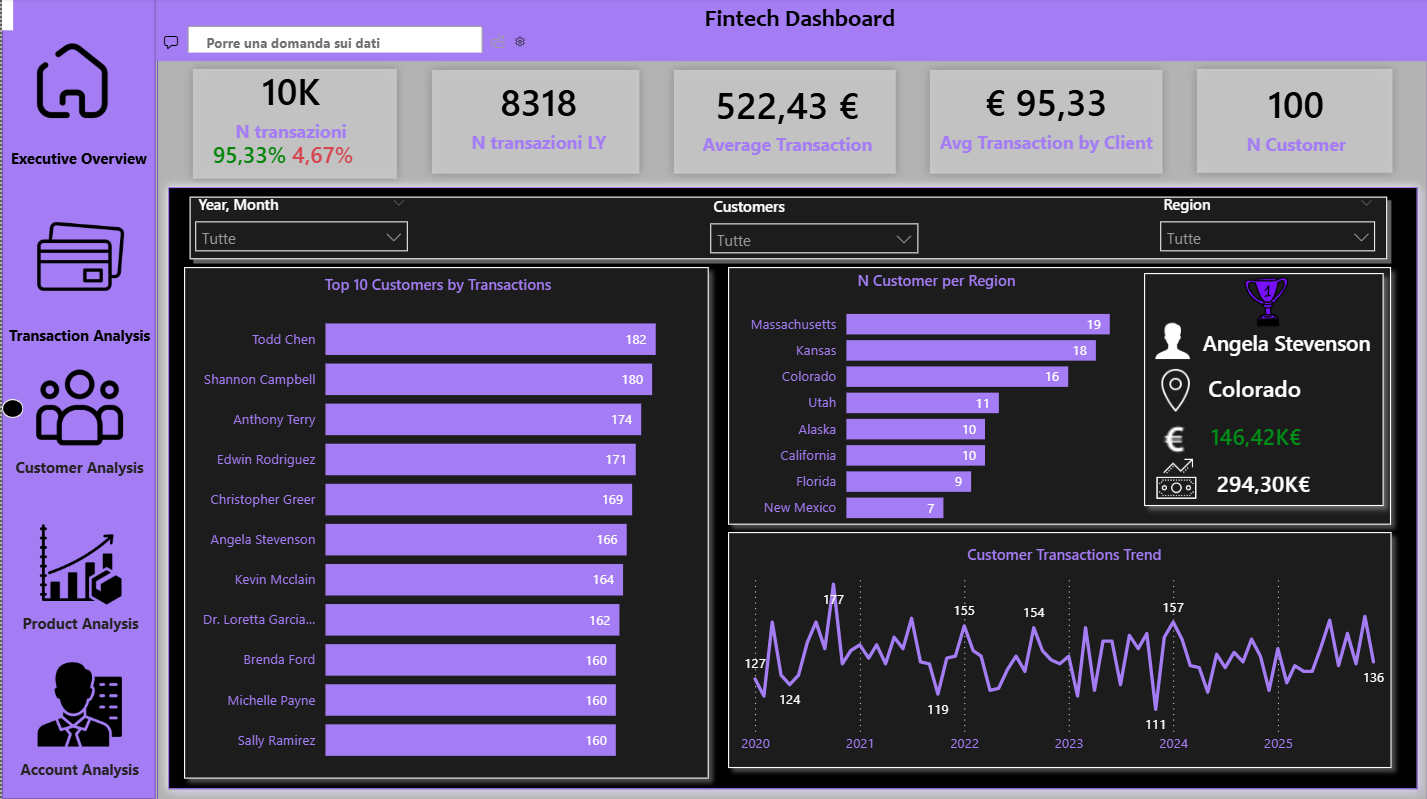

Layout of this report page (visuals, bound fields, positions):
{"tool":"powerbi","page":{"name":"Customer Analysis","canvas":[1280,720],"ordinal":2},"visuals":[{"type":"shape","box":[139.1,1.1,1140.9,719.2],"z":0},{"type":"shape","box":[0,0,138.1,719.2],"z":1000},{"type":"shape","box":[1064.9,55.7,191.6,109.2],"z":2000},{"type":"shape","box":[138.1,0,1141.9,56.7],"z":3000},{"type":"shape","box":[825.2,56.7,224.7,109.2],"z":4000},{"type":"card","fields":{"Values":["Misure.N Customer"]},"box":[1074.5,51.4,174.4,109.2],"z":5000},{"type":"shape","box":[163.7,55.7,199.1,114.5],"z":6000},{"type":"card","fields":{"Values":["Misure.avg transazine x cliente"]},"box":[825.2,49.2,224.7,109.2],"z":7000},{"type":"shape","box":[595.1,56.7,215.1,109.2],"z":8000},{"type":"card","fields":{"Values":["Misure.N transazioni"]},"box":[164.8,39.6,188.4,109.2],"z":9000},{"type":"card","fields":{"Values":["Misure.valore medio transazione"]},"box":[596.8,51.7,216.2,109],"z":10000},{"type":"shape","box":[140.2,160.5,1139.8,558.7],"z":11000},{"type":"textbox","box":[619.7,0,193.7,49.2],"z":12000},{"type":"qnaVisual","box":[135.9,0,344.6,49.2],"z":13000},{"type":"shape","box":[0,359.6,19.3,17.1],"z":14000},{"type":"textbox","box":[0,130.6,138.1,35.3],"z":15000},{"type":"textbox","box":[0,289,139.1,31],"z":16000},{"type":"textbox","box":[0,407.8,139.1,31],"z":17000},{"type":"image","box":[29.7,36.9,66.6,74.9],"z":18000},{"type":"image","box":[28.9,328.6,81.3,78.1],"z":19000},{"type":"image","box":[30,469.8,81.3,78.1],"z":20000},{"type":"image","box":[28.9,595.1,81.3,78.1],"z":21000},{"type":"image","box":[30,192.6,81.3,78.1],"z":22000},{"type":"textbox","box":[1.1,548,139.1,31],"z":23000},{"type":"shape","box":[154.1,232.2,489.1,477.3],"z":24000},{"type":"shape","box":[643.2,232.2,613.2,249.4],"z":25000},{"type":"textbox","box":[0,678.5,139.1,31],"z":26000},{"type":"barChart","title":"Top 10 Customers by Transactions","fields":{"Category":["DimCustomer.FullName"],"Y":["Misure.N transazioni"]},"box":[163.4,247.8,456.1,452.5],"z":27000},{"type":"card","fields":{"Values":["Misure.% transazioni riuscite"]},"box":[167,123.9,131.1,35.9],"z":28000},{"type":"card","fields":{"Values":["Misure.% transazioni fallite"]},"box":[232.5,123.9,130.2,35.9],"z":29000},{"type":"barChart","fields":{"Category":["DimCustomer.Region"],"Y":["Misure.N Customer"]},"box":[658.2,244,361.7,237.6],"z":30000},{"type":"tableEx","fields":{"Values":["DimCustomer.FullName","Misure.N transazioni","Misure.entrate Positive","Misure.Saldo generale"]},"box":[0,0,9.6,28.9],"z":31000},{"type":"shape","box":[377.8,56.7,202.3,109.2],"z":32000},{"type":"shape","box":[642.8,470.1,613.7,229.9],"z":33000},{"type":"lineChart","title":"Customer Transactions Trend","fields":{"Category":["calendario.Date.Variazione.Gerarchia data.Anno","calendario.Date.Variazione.Gerarchia data.Mese"],"Y":["Misure.N transazioni"]},"box":[657.8,489.9,591.2,197.1],"z":34000},{"type":"card","fields":{"Values":["Misure.N transazioni LY"]},"box":[375,49.2,213,109.2],"z":35000},{"type":"shape","box":[163.7,173.4,1085.2,66.4],"z":36000},{"type":"slicer","fields":{"Values":["DimCustomer.FullName"]},"box":[625.9,172.9,206.8,59.2],"z":37000},{"type":"slicer","fields":{"Values":["DimCustomer.Region"]},"box":[1030,171,213.3,63.9],"z":38000},{"type":"slicer","fields":{"Values":["calendario.Date.Variazione.Gerarchia data.Anno","calendario.Date.Variazione.Gerarchia data.Mese"]},"box":[163.7,171.2,210.8,66.4],"z":39000},{"type":"shape","box":[1015.9,237.9,233.2,227.2],"z":40000},{"type":"image","box":[1021.9,287.9,57.1,40.4],"z":41000},{"type":"image","box":[1030.2,331.9,46.4,40.4],"z":42000},{"type":"image","box":[1030.2,375.9,46.4,40.4],"z":43000},{"type":"card","fields":{"Values":["Min(DimCustomer.Region)"]},"box":[1069.4,330.7,110.6,42.8],"z":44000},{"type":"card","fields":{"Values":["Min(DimCustomer.FullName)"]},"box":[1064.7,295,177.2,33.3],"z":45000},{"type":"image","box":[1024.2,408,59.5,47.6],"z":46000},{"type":"card","fields":{"Values":["Misure.Saldo generale"]},"box":[1077.8,374.7,95.2,41.6],"z":47000},{"type":"card","fields":{"Values":["Misure.entrate Positive"]},"box":[1075.4,423.5,114.2,26.2],"z":48000},{"type":"image","box":[1102.8,247.4,59.5,47.6],"z":49000}]}

Visuals, with their boxes on the page's 1280x720 design canvas (x1, y1, x2, y2). These are canvas units, not pixel positions in the 1427x799 screenshot, which may show the page scaled, cropped or inside an application window:
shape: 139/1/1280/720
shape: 0/0/138/719
shape: 1065/56/1256/165
shape: 138/0/1280/57
shape: 825/57/1050/166
card - Misure.N Customer: 1074/51/1249/161
shape: 164/56/363/170
card - Misure.avg transazine x cliente: 825/49/1050/158
shape: 595/57/810/166
card - Misure.N transazioni: 165/40/353/149
card - Misure.valore medio transazione: 597/52/813/161
shape: 140/160/1280/719
textbox: 620/0/813/49
qnaVisual: 136/0/480/49
shape: 0/360/19/377
textbox: 0/131/138/166
textbox: 0/289/139/320
textbox: 0/408/139/439
image: 30/37/96/112
image: 29/329/110/407
image: 30/470/111/548
image: 29/595/110/673
image: 30/193/111/271
textbox: 1/548/140/579
shape: 154/232/643/710
shape: 643/232/1256/482
textbox: 0/678/139/710
"Top 10 Customers by Transactions" barChart: 163/248/620/700
card - Misure.% transazioni riuscite: 167/124/298/160
card - Misure.% transazioni fallite: 232/124/363/160
barChart - DimCustomer.Region x Misure.N Customer: 658/244/1020/482
tableEx - DimCustomer.FullName x Misure.N transazioni: 0/0/10/29
shape: 378/57/580/166
shape: 643/470/1256/700
"Customer Transactions Trend" lineChart: 658/490/1249/687
card - Misure.N transazioni LY: 375/49/588/158
shape: 164/173/1249/240
slicer - DimCustomer.FullName: 626/173/833/232
slicer - DimCustomer.Region: 1030/171/1243/235
slicer - calendario.Date.Variazione.Gerarchia data.Anno x calendario.Date.Variazione.Gerarchia data.Mese: 164/171/374/238
shape: 1016/238/1249/465
image: 1022/288/1079/328
image: 1030/332/1077/372
image: 1030/376/1077/416
card - Min(DimCustomer.Region): 1069/331/1180/374
card - Min(DimCustomer.FullName): 1065/295/1242/328
image: 1024/408/1084/456
card - Misure.Saldo generale: 1078/375/1173/416
card - Misure.entrate Positive: 1075/424/1190/450
image: 1103/247/1162/295
